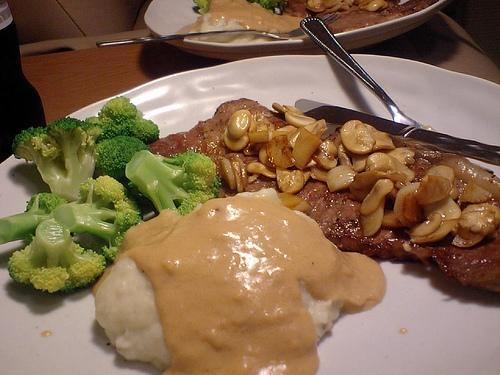broccoli: (52, 174, 141, 263), (13, 116, 103, 203), (7, 218, 107, 294), (125, 149, 222, 214), (82, 97, 160, 144), (0, 193, 68, 245), (95, 136, 152, 186), (247, 0, 283, 13), (193, 0, 211, 15)
mushroom: (440, 156, 500, 201), (410, 196, 462, 244), (349, 170, 407, 204), (341, 120, 395, 154), (284, 119, 329, 154), (365, 152, 416, 182), (394, 182, 426, 227), (358, 179, 394, 216), (292, 127, 322, 170), (224, 110, 252, 152), (413, 175, 451, 204), (360, 196, 386, 237), (266, 134, 296, 169), (458, 210, 496, 236), (403, 212, 442, 237), (326, 165, 359, 192), (450, 224, 484, 248), (276, 166, 305, 194), (422, 166, 455, 190), (373, 147, 415, 165), (316, 140, 338, 169), (277, 193, 310, 212), (219, 156, 237, 190), (284, 110, 316, 128), (246, 162, 276, 178), (258, 142, 276, 168), (233, 155, 247, 188), (231, 160, 244, 194), (323, 3, 350, 14), (310, 166, 328, 182), (304, 0, 326, 12), (366, 1, 388, 12), (272, 102, 289, 113), (450, 182, 460, 200)
